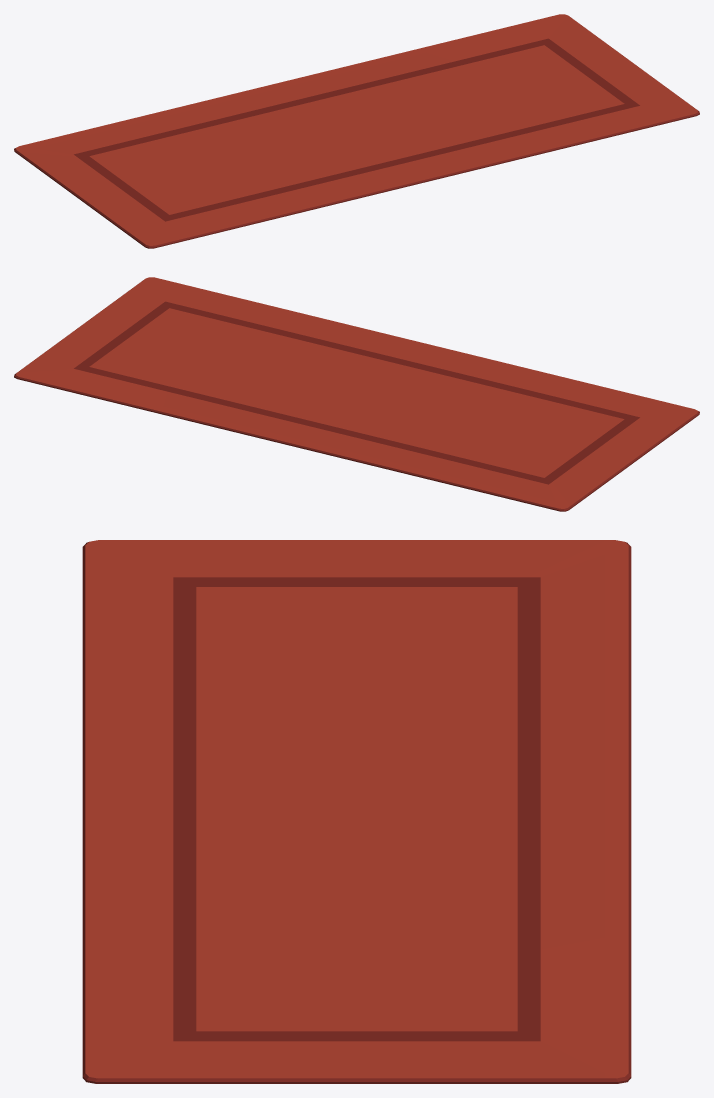
The model's file is Int_Carpet01_1.fbx.
3 renders of one model, top to bottom at view 1: azimuth 30°, elevation 25°; view 2: azimuth 150°, elevation 25°; view 3: azimuth 270°, elevation 25°, orthographic. The views are drawn at different scales.
Visible parts, largest first — view 1: Int_Carpet01_1; view 2: Int_Carpet01_1; view 3: Int_Carpet01_1.
Part boxes in pixels (x1=…): Int_Carpet01_1: x1=14, y1=14, x2=699, y2=248; Int_Carpet01_1: x1=14, y1=277, x2=699, y2=511; Int_Carpet01_1: x1=82, y1=540, x2=631, y2=1083.
Size of what is drawn, in the model's own units: 700 by 300 by 2.5.
